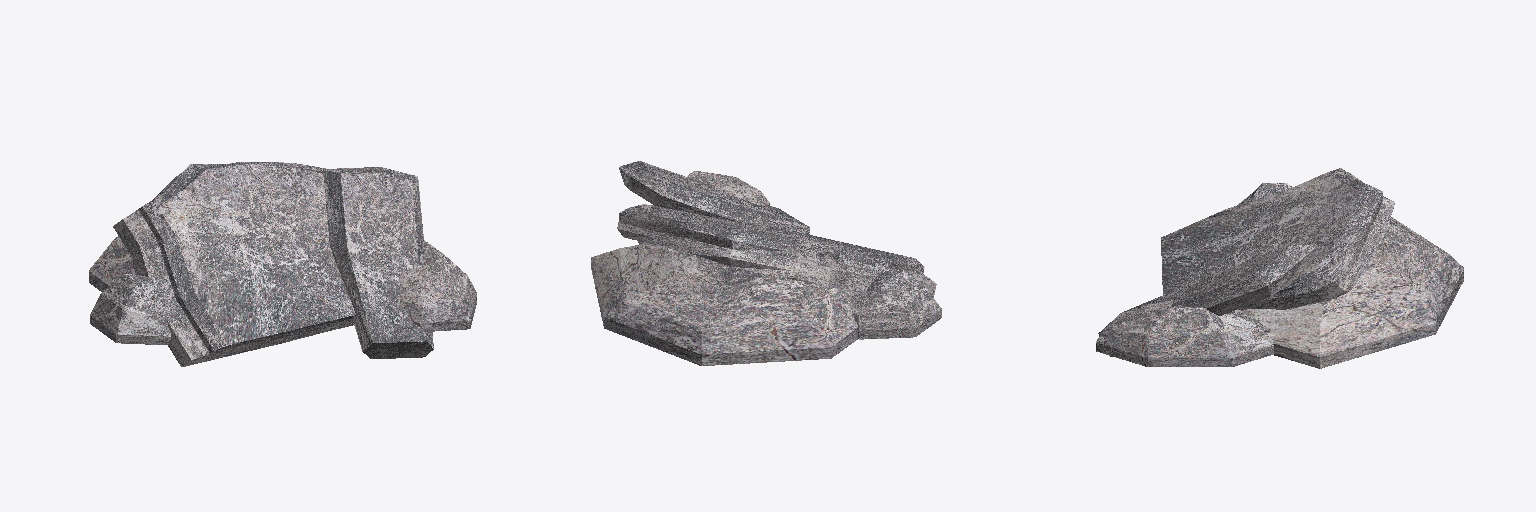
3 renders of one model, left to right at view 1: azimuth 30°, elevation 25°; view 2: azimuth 150°, elevation 25°; view 3: azimuth 270°, elevation 25°, orthographic.
Visible parts, largest first — view 1: rubble2; view 2: rubble2; view 3: rubble2.
Boxes of the visible parts, box(x1,y1,x2,y2) form: rubble2: box(89, 162, 476, 366); rubble2: box(591, 161, 941, 365); rubble2: box(1096, 168, 1463, 368).
Bounding box in the file's own units: 42.71 × 15.7 × 43.51.
1 materials, 1 textured.